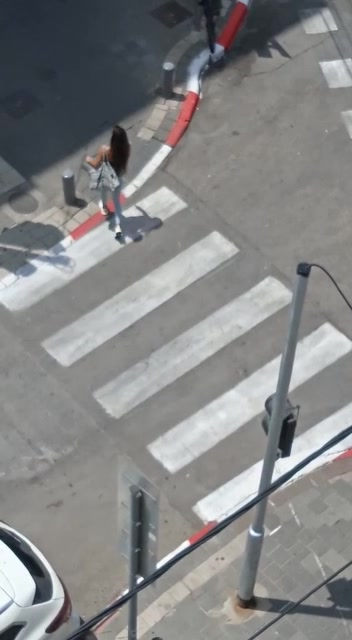crosswalk: (3, 196, 352, 495)
person: (84, 110, 146, 246)
